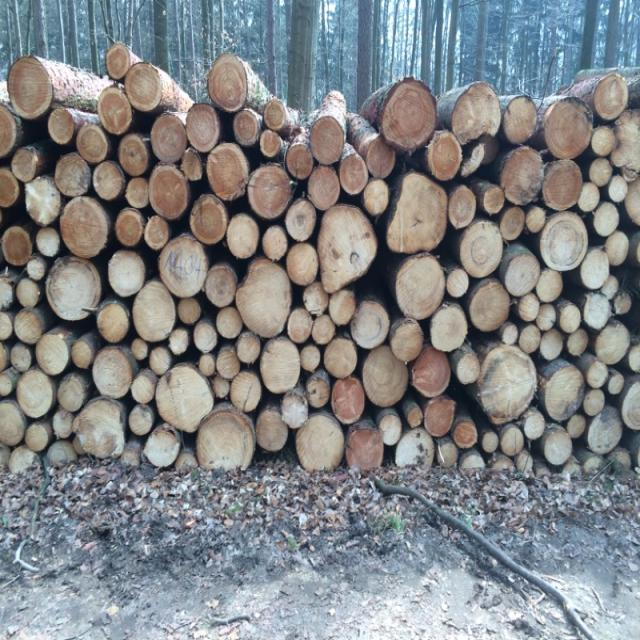wood-log: (318, 205, 378, 293), (476, 343, 538, 421), (389, 175, 450, 254), (234, 258, 292, 336), (154, 366, 213, 434), (381, 85, 436, 151), (47, 258, 103, 320), (197, 408, 253, 468), (396, 256, 447, 320), (59, 197, 110, 259), (159, 237, 209, 300), (74, 399, 127, 458), (360, 342, 406, 404), (546, 101, 594, 160), (5, 55, 50, 117), (540, 213, 588, 271), (297, 415, 345, 472), (454, 86, 502, 142), (132, 282, 176, 342), (501, 148, 547, 205), (459, 220, 503, 278), (248, 164, 294, 218), (206, 143, 248, 199), (260, 338, 302, 392), (470, 281, 513, 332), (543, 159, 585, 211), (152, 168, 192, 221), (410, 348, 452, 398), (92, 348, 133, 399), (208, 57, 248, 109), (190, 194, 229, 245), (350, 301, 390, 349), (17, 368, 55, 418), (25, 178, 64, 226), (432, 303, 470, 351), (125, 63, 163, 111), (428, 133, 465, 182), (109, 251, 147, 298), (332, 375, 368, 424), (98, 86, 134, 135), (346, 427, 384, 473), (312, 119, 350, 165), (612, 110, 640, 172), (151, 116, 188, 162), (504, 98, 541, 144), (587, 408, 623, 455), (186, 104, 221, 152), (55, 154, 93, 198), (504, 254, 542, 298), (397, 431, 436, 471), (37, 331, 71, 376), (594, 325, 632, 365), (594, 77, 628, 121), (226, 216, 260, 260), (143, 429, 180, 469), (307, 166, 340, 210), (284, 242, 318, 284), (97, 302, 131, 344), (205, 264, 237, 308), (323, 338, 358, 378), (422, 396, 456, 437), (390, 322, 424, 363), (257, 409, 289, 452), (285, 198, 316, 242), (230, 371, 262, 412), (78, 124, 110, 164), (119, 134, 149, 176), (2, 227, 34, 266), (93, 161, 124, 201), (580, 250, 610, 291), (448, 187, 477, 229), (0, 401, 27, 446), (338, 155, 368, 195), (59, 373, 90, 411), (543, 429, 572, 467), (48, 106, 77, 144), (114, 210, 143, 248), (287, 146, 316, 182), (361, 180, 390, 216), (232, 110, 260, 147), (12, 310, 42, 344), (584, 295, 613, 330), (280, 393, 308, 429), (285, 308, 313, 344), (330, 289, 358, 325), (214, 306, 243, 339), (500, 205, 526, 241), (604, 230, 630, 266), (304, 278, 330, 314), (10, 150, 37, 183), (0, 103, 16, 158), (263, 227, 288, 262), (590, 125, 618, 156), (593, 202, 619, 235), (536, 269, 562, 302), (146, 215, 171, 249), (623, 379, 640, 429), (456, 352, 480, 387), (34, 227, 60, 259), (131, 372, 157, 404), (540, 330, 566, 362), (307, 374, 330, 410), (236, 332, 262, 363), (215, 346, 240, 378), (0, 166, 19, 208), (379, 412, 403, 445), (14, 278, 40, 308), (193, 321, 218, 352), (130, 405, 155, 436), (482, 186, 507, 217), (127, 176, 151, 208), (25, 421, 51, 450), (176, 297, 202, 326), (521, 411, 546, 441), (148, 345, 173, 375), (447, 267, 471, 298), (312, 316, 336, 347), (624, 179, 640, 225), (452, 422, 478, 450), (500, 427, 524, 457), (264, 100, 288, 130), (518, 323, 541, 354), (517, 293, 540, 323), (586, 359, 608, 390), (558, 304, 582, 332), (567, 328, 589, 358), (579, 182, 601, 212), (590, 158, 613, 186), (168, 328, 190, 357), (10, 344, 32, 373), (584, 388, 606, 416), (302, 342, 322, 372), (72, 340, 92, 370), (261, 131, 283, 158), (610, 174, 631, 202), (54, 409, 74, 438), (535, 303, 556, 330), (439, 441, 460, 468), (527, 206, 548, 233), (566, 414, 586, 440), (26, 256, 47, 280), (0, 276, 14, 310), (482, 429, 500, 454), (131, 338, 150, 361), (406, 404, 424, 428), (601, 275, 619, 299), (198, 353, 216, 377), (614, 294, 632, 316), (0, 312, 13, 341), (628, 342, 640, 372), (501, 323, 518, 344), (0, 373, 13, 397), (0, 342, 8, 371)
